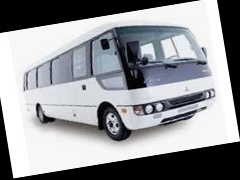bus: (17, 8, 220, 156)
